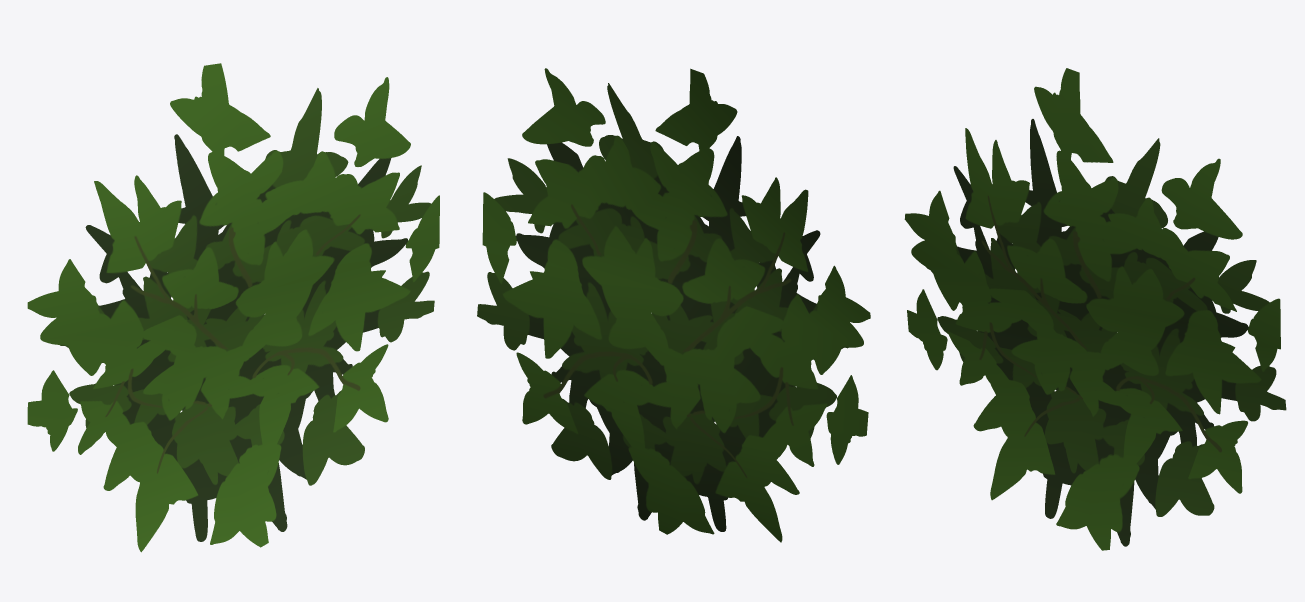
File: SM_Vine03.FBX
3 renders of one model, left to right at view 1: azimuth 30°, elevation 25°; view 2: azimuth 150°, elevation 25°; view 3: azimuth 330°, elevation 25°, orthographic. The views are drawn at different scales.
Visible parts, largest first — view 1: Plane004; view 2: Plane004; view 3: Plane004.
Boxes of the visible parts, x1,y1,x2,y2 form: Plane004: [27, 63, 439, 552]; Plane004: [477, 68, 870, 542]; Plane004: [904, 68, 1286, 550].
Size of the model in its own units: 68.05 by 79.13 by 11.74.
1 material, 1 textured.
